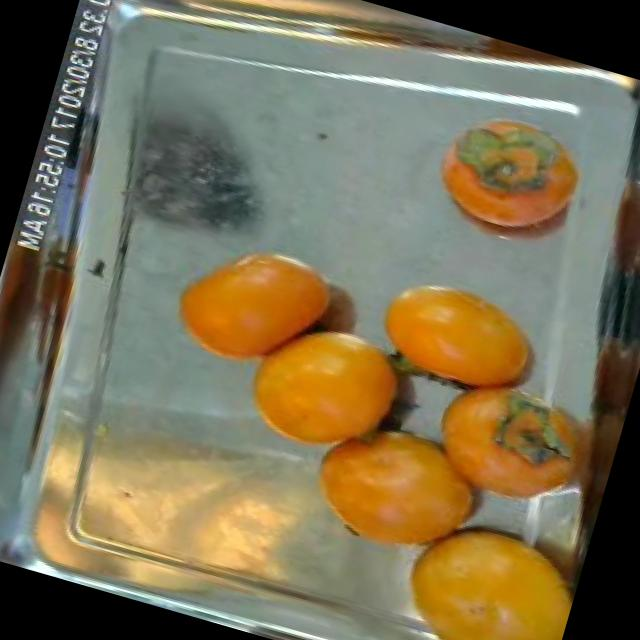Fruit: (276, 382, 530, 591), (220, 292, 451, 490), (395, 357, 620, 542), (151, 214, 352, 399), (366, 480, 592, 640), (407, 90, 605, 270), (356, 250, 575, 410), (579, 158, 640, 292)
